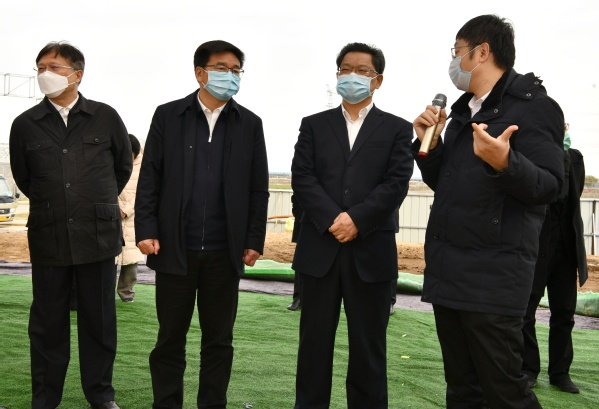correctlyWear: (446, 36, 490, 91), (334, 58, 385, 104), (194, 60, 244, 101), (35, 59, 84, 99)
